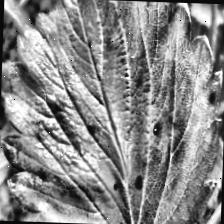Leaf Spot: (0, 0, 224, 224), (167, 89, 224, 224)
